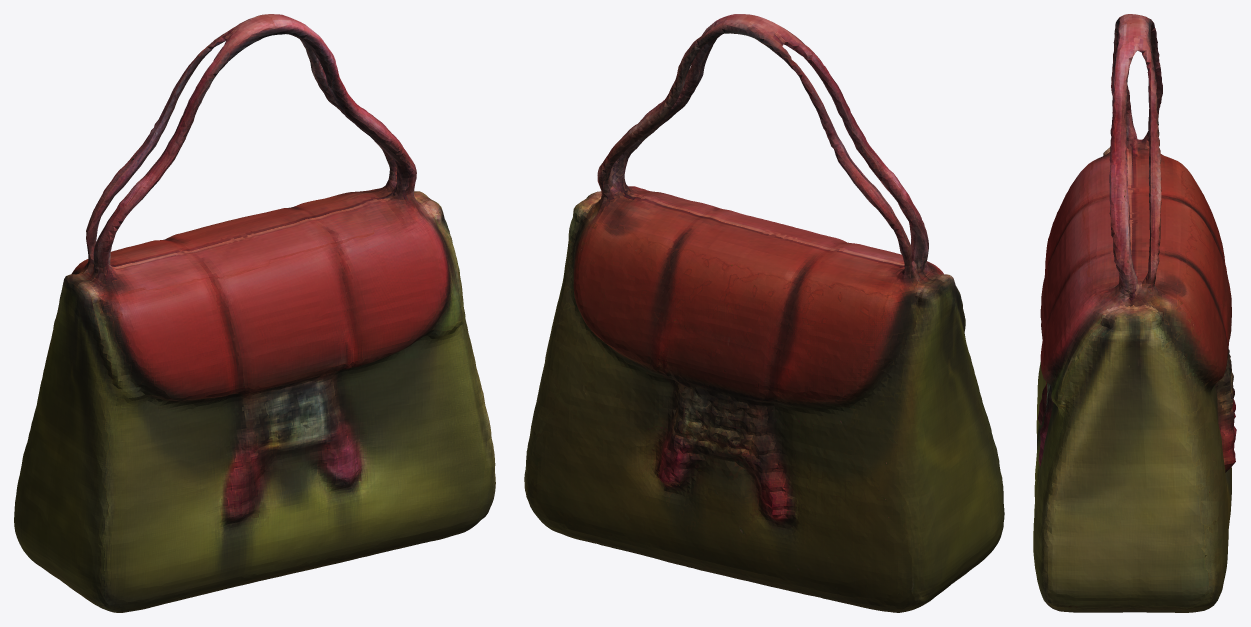
The model's file is A women's fashion bag_6.glb.
3 views of the same model, side by side, from view 1: azimuth 30°, elevation 25°; view 2: azimuth 150°, elevation 25°; view 3: azimuth 270°, elevation 25° (orthographic). The views are drawn at different scales.
Size of the model in its own units: 0.8138 by 1 by 0.3572.
1 material, 1 textured.
